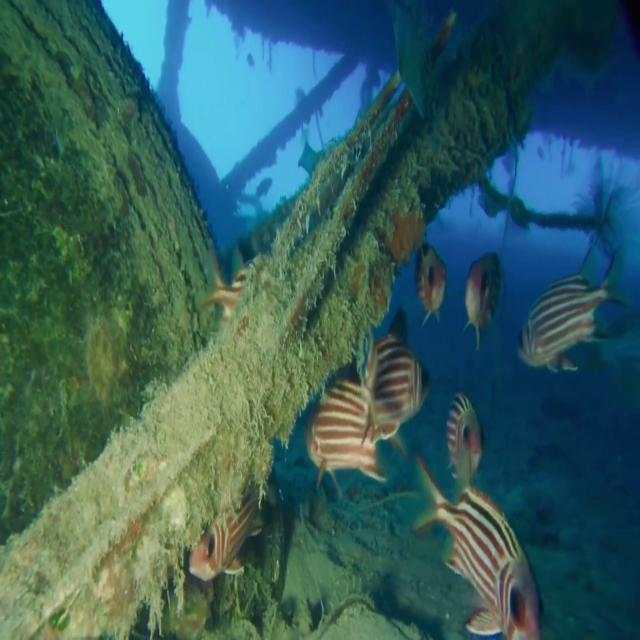Asker Baligi: (407, 447, 550, 640), (514, 257, 612, 384), (304, 380, 414, 473)
